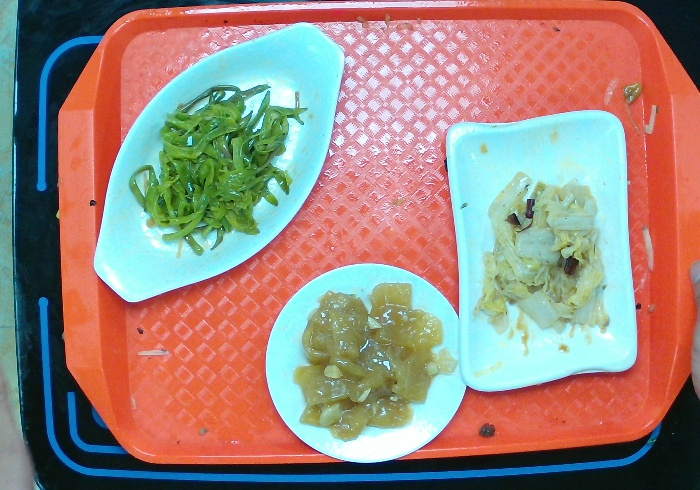RJxy-Si_Fang_Ao_Bian_Wan: (441, 108, 644, 395)
RJxy-Xiao_Yuan_Die: (262, 256, 469, 462)
RJxy-Yu_Pan: (89, 16, 345, 306)
